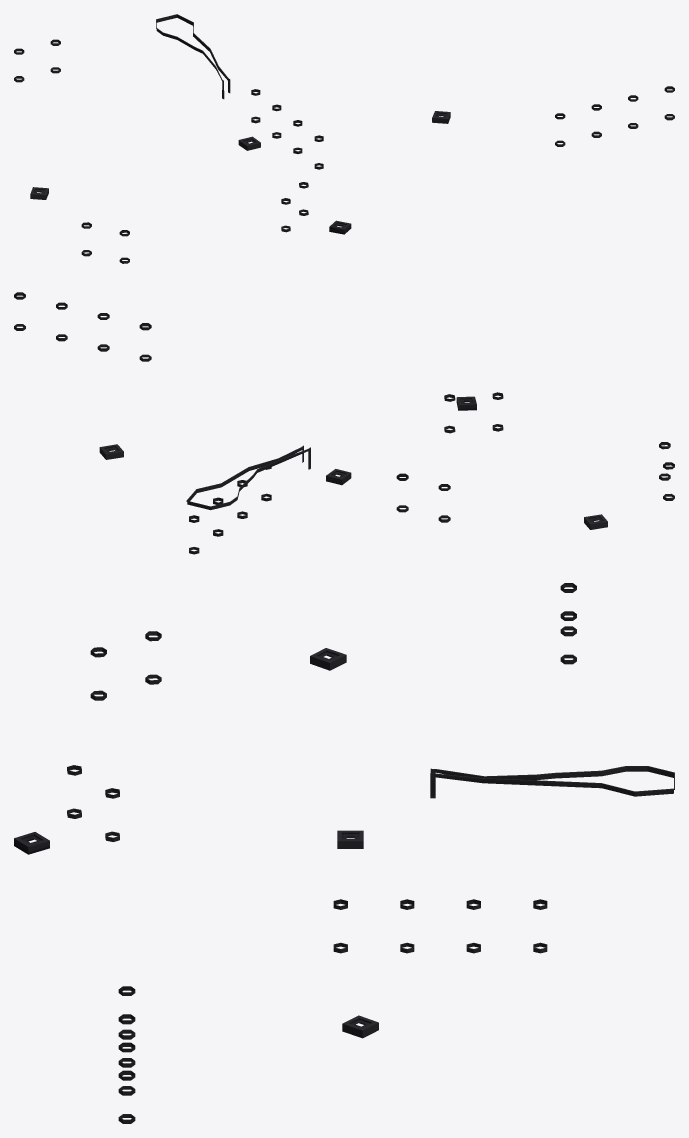
The model's file is Ground_03.FBX.
The picture shows the model from 3 angles, top to bottom: view 1: azimuth 30°, elevation 25°; view 2: azimuth 150°, elevation 25°; view 3: azimuth 270°, elevation 25°; orthographic projection. The views are drawn at different scales.
Visible parts, largest first — view 1: Ground_03; view 2: Ground_03; view 3: Ground_03.
Boxes of the visible parts, bbox=[...] form: Ground_03: bbox=[14, 14, 674, 263]; Ground_03: bbox=[14, 292, 674, 554]; Ground_03: bbox=[14, 583, 674, 1123].
Size of the model in its own units: 46.39 by 9.1 by 28.89.
